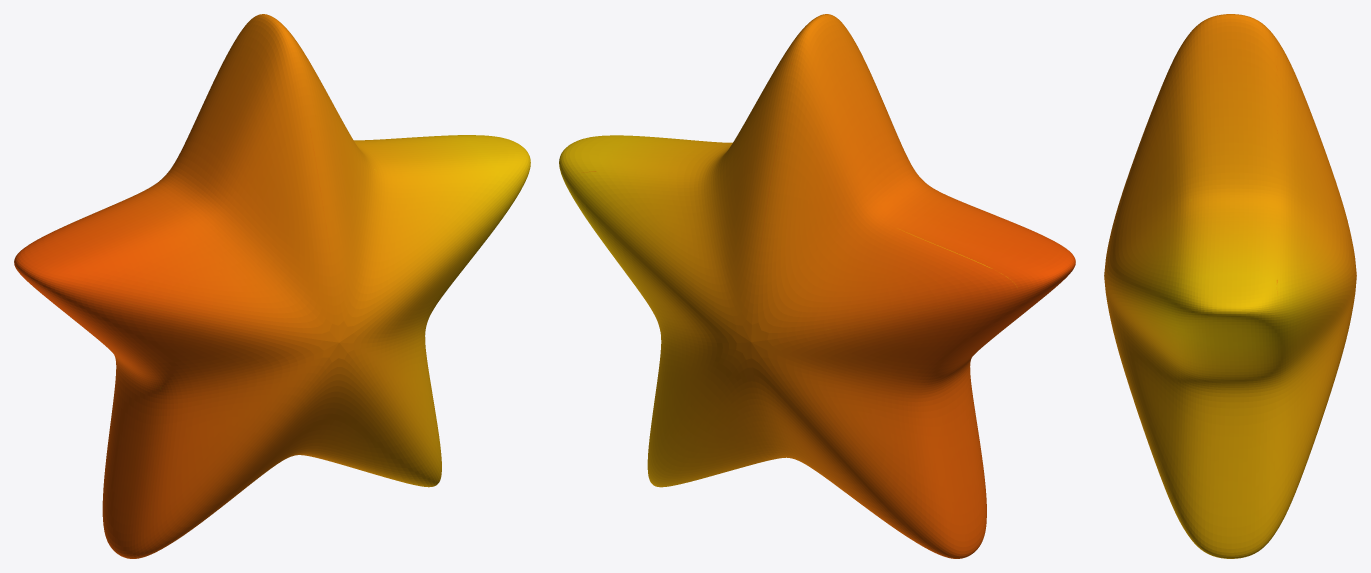
Rendered from star-3d-icon.gltf.
3 views of the same model, side by side, from view 1: azimuth 30°, elevation 25°; view 2: azimuth 150°, elevation 25°; view 3: azimuth 270°, elevation 25° (orthographic). The views are drawn at different scales.
Visible parts, largest first — view 1: Cylinder; view 2: Cylinder; view 3: Cylinder.
Boxes of the visible parts, x1,y1,x2,y2 form: Cylinder: (14, 14, 530, 558); Cylinder: (559, 14, 1075, 558); Cylinder: (1104, 14, 1356, 558).
Size of the model in its own units: 3.91 by 3.72 by 1.8.
Materials: 1 (1 with a texture image).
